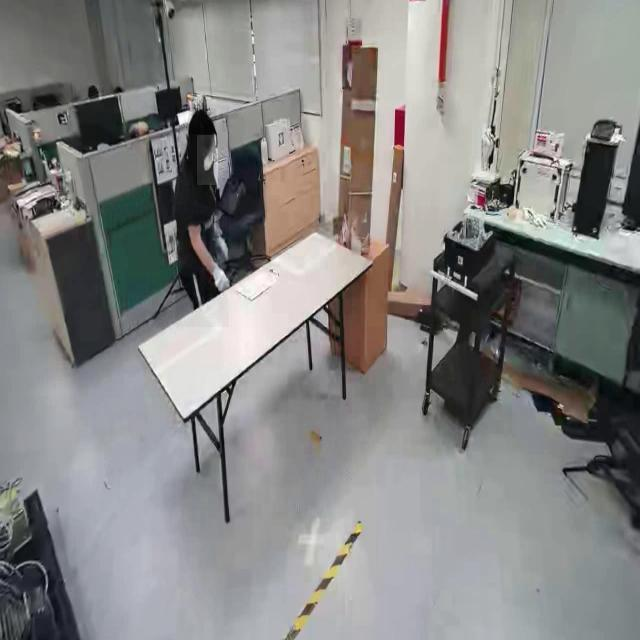face_mask: (197, 135, 218, 185)
hand_glove: (210, 255, 229, 296)
head_nohelmet: (188, 109, 216, 135)
person: (175, 105, 229, 328)
